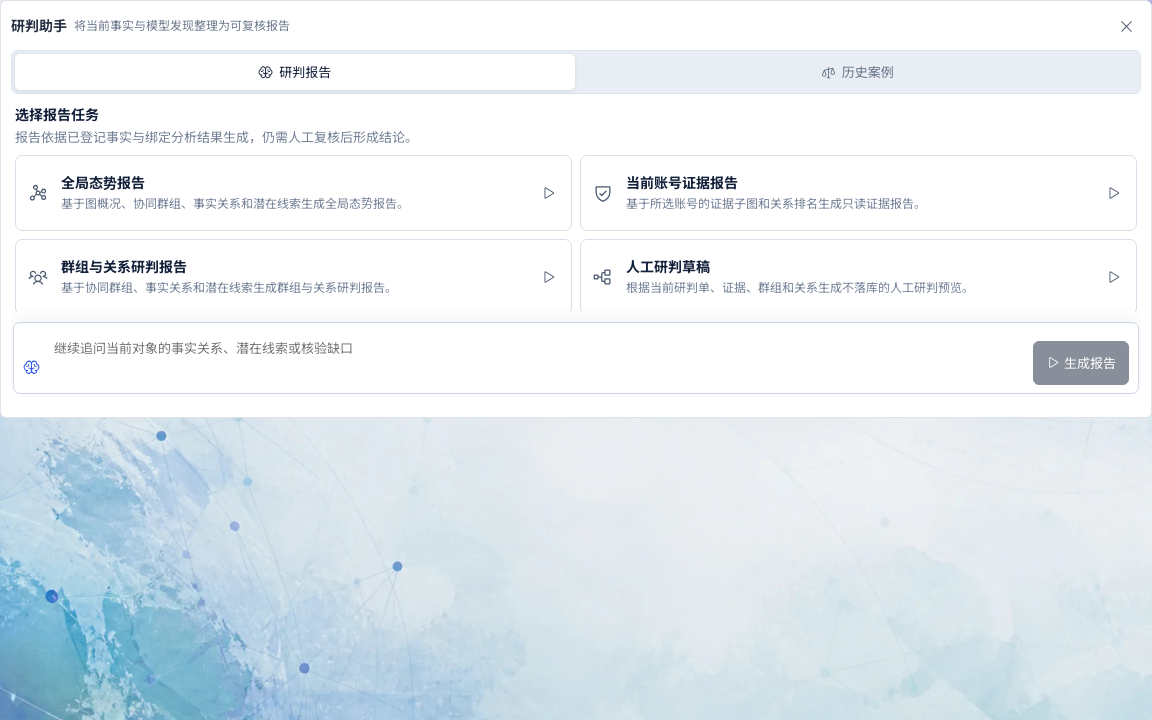
governance report assistant › keeps the last successful cases when a typed service retry fails
The width and height of the screenshot is (1152, 720).
Click the tab "历史案例": (857, 72) [578,54,1137,90]
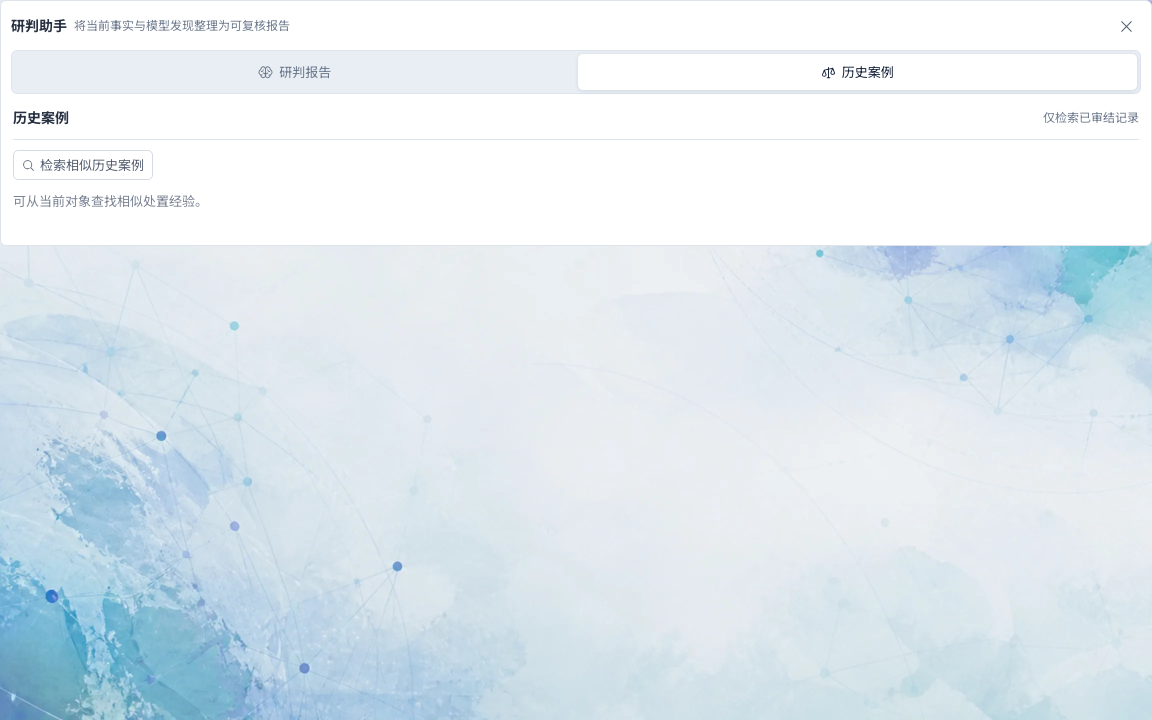
Click the button "检索相似历史案例": (83, 165) [13,150,153,180]
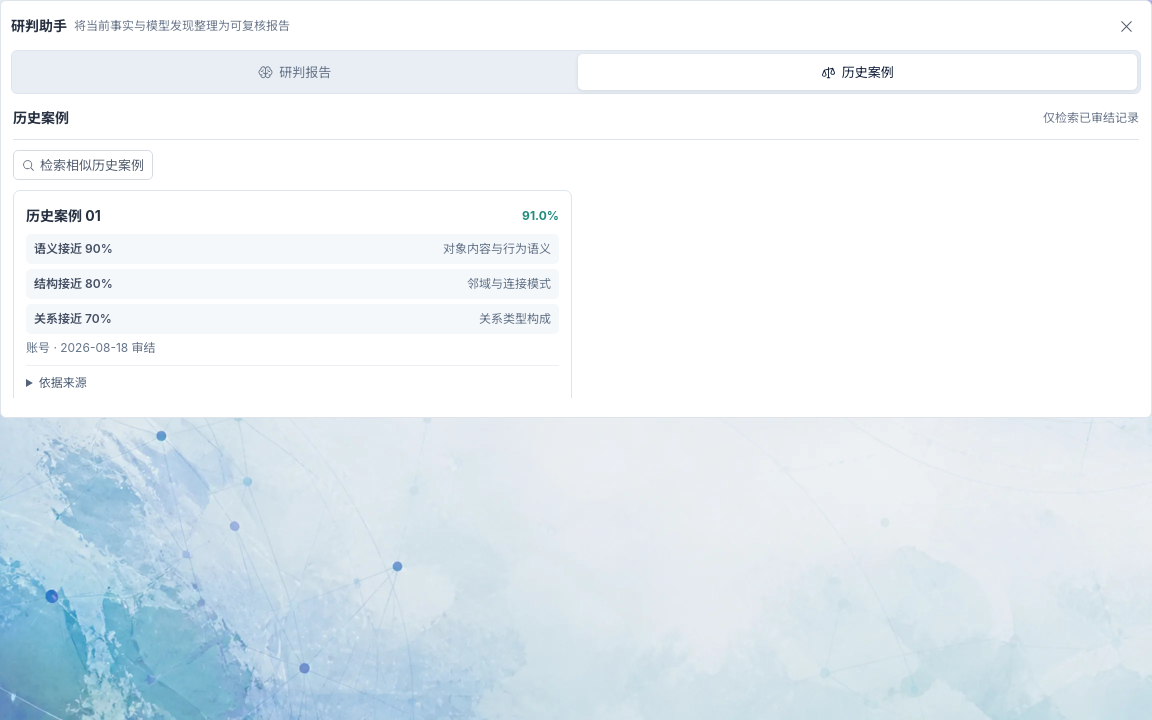
Check: the text "历史案例 01" is shown, box [26,203,101,229]
Click the button "检索相似历史案例": (83, 165) [13,150,153,180]
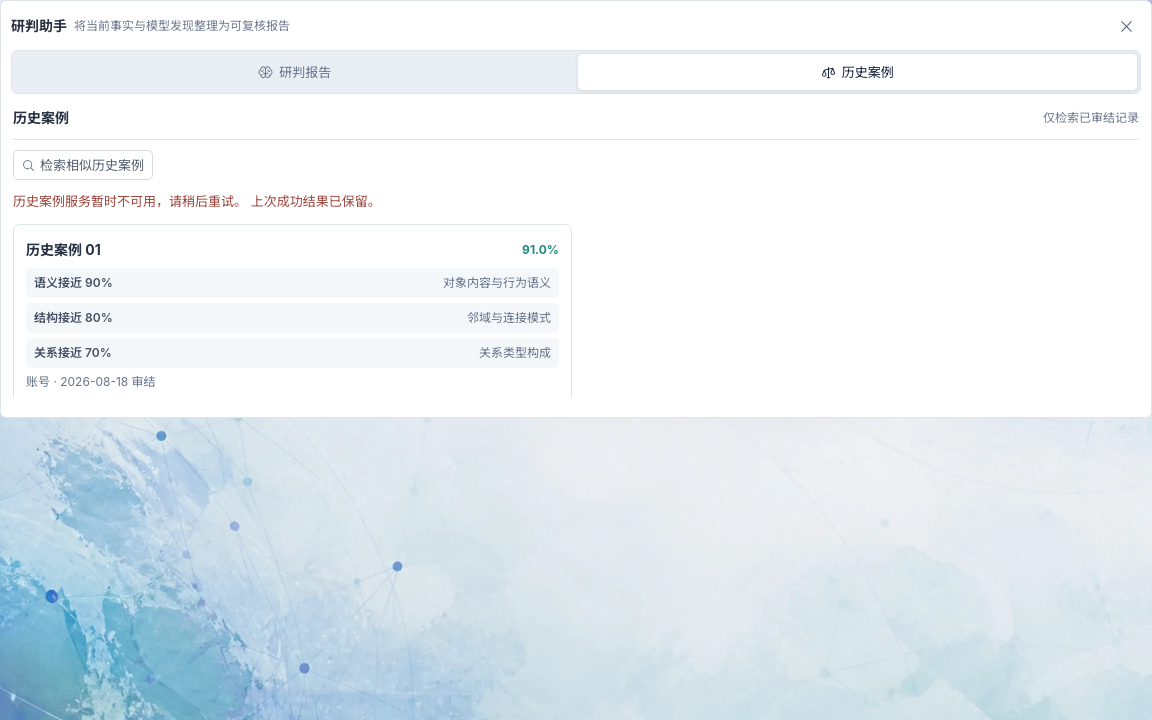
Check: the text "历史案例 01" is shown, box [26,237,101,263]
Check: the text "历史案例服务暂时不可用，请稍后重试。 上次成功结果已保留。" is shown, box [13,193,381,209]
